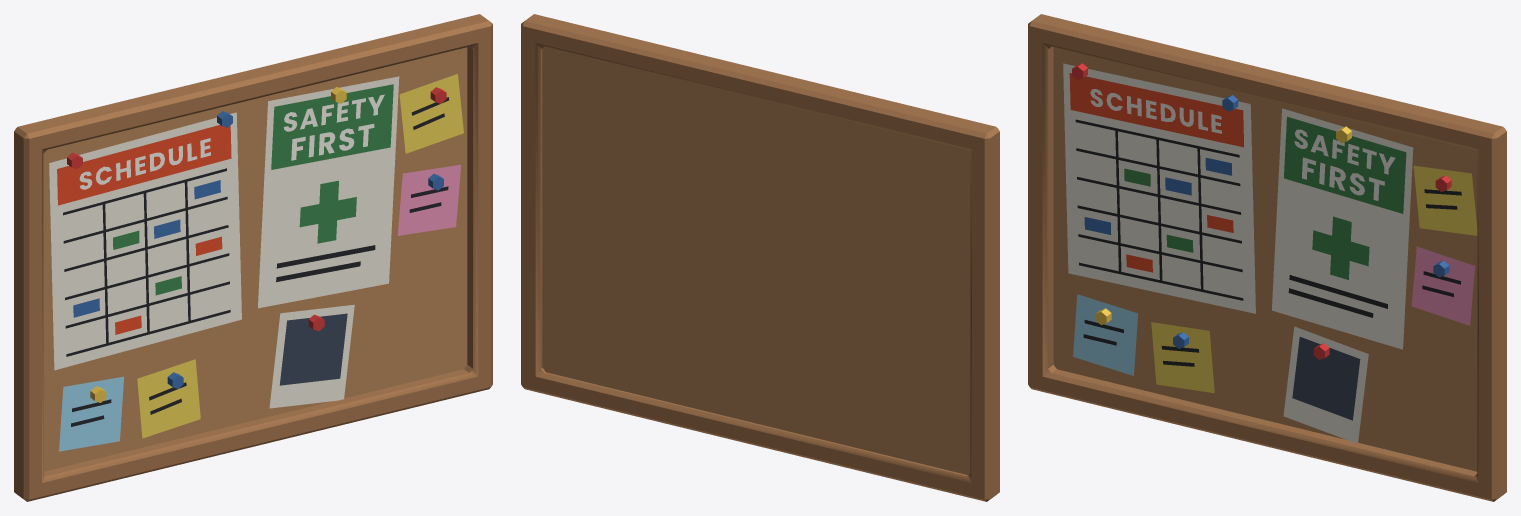
Rendered from Shop_CorkBoard.fbx.
3 renders of one model, left to right at view 1: azimuth 30°, elevation 25°; view 2: azimuth 150°, elevation 25°; view 3: azimuth 330°, elevation 25°, orthographic.
Visible parts, largest first — view 1: Cork, Papers, Frame, Green, Ink, Notes3, Header, Photo, Notes5, WhiteText, Notes4, Notes1 (+4 smaller); view 2: Cork, Frame; view 3: Cork, Papers, Frame, Green, Ink, Notes3, Header, Photo, Notes5, WhiteText, Notes4, Notes1 (+4 smaller).
Part boxes in pixels (box(x1,y1,x2,y2)): Cork: box(43, 47, 467, 471); Papers: box(49, 76, 399, 408); Frame: box(14, 14, 492, 501); Green: box(271, 84, 393, 243); Ink: box(63, 97, 448, 426); Notes3: box(137, 74, 463, 438); Header: box(57, 125, 231, 205); Photo: box(279, 313, 347, 385); Notes5: box(59, 376, 123, 451); WhiteText: box(79, 94, 384, 189); Notes4: box(397, 164, 460, 235); Notes1: box(73, 180, 220, 317); Cork: box(542, 47, 970, 474); Frame: box(521, 14, 999, 501); Cork: box(1053, 47, 1477, 471); Papers: box(1063, 63, 1413, 443); Frame: box(1028, 14, 1506, 501); Green: box(1284, 116, 1406, 279); Ink: box(1075, 119, 1461, 366); Notes3: box(1151, 165, 1477, 393); Header: box(1069, 73, 1243, 147); Photo: box(1292, 337, 1360, 420); Notes5: box(1073, 294, 1137, 375); WhiteText: box(1090, 89, 1395, 200); Notes4: box(1411, 246, 1475, 325); Notes1: box(1084, 157, 1232, 234).
Size of the model in its own units: 400 by 300 by 20.
